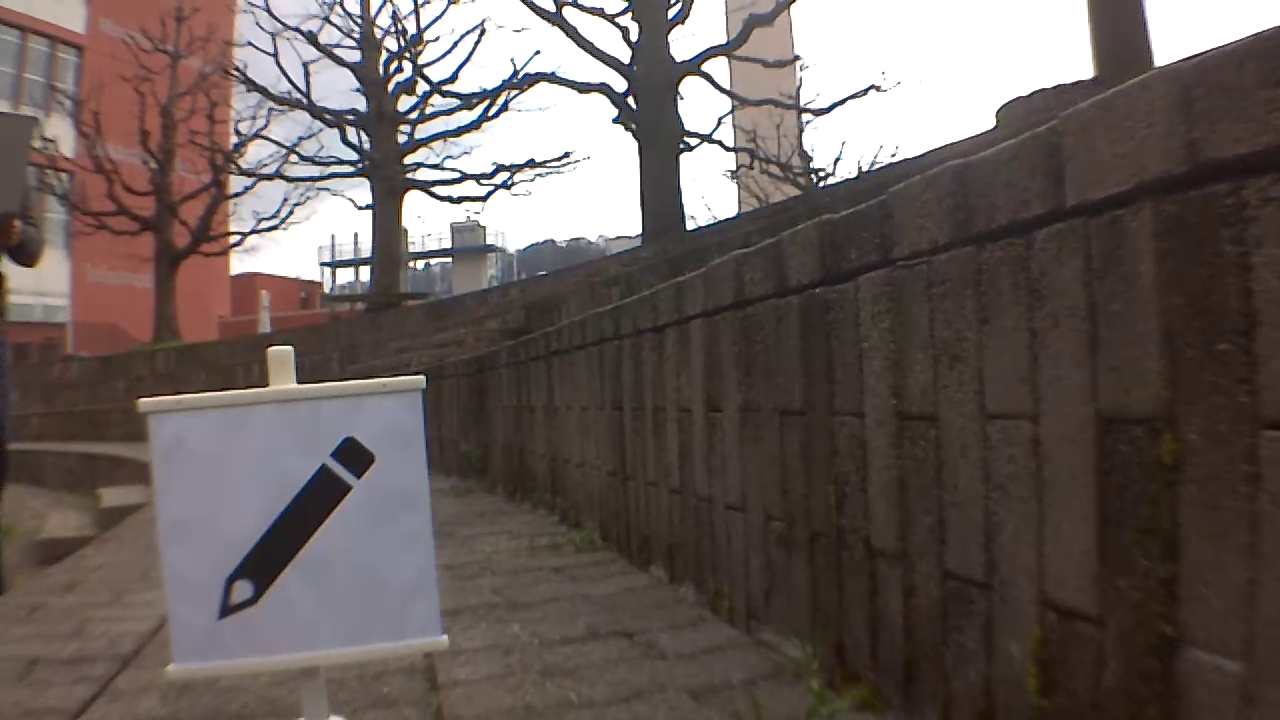pencil: (220, 427, 384, 621)
